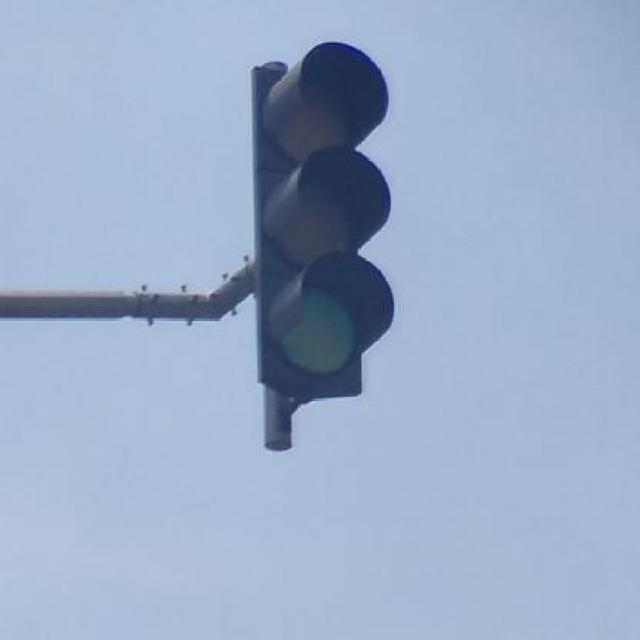traffic light: (248, 57, 376, 402)
